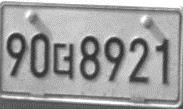0: (29, 32, 50, 78)
1: (155, 38, 170, 85)
2: (128, 37, 150, 84)
8: (78, 34, 101, 80)
9: (102, 35, 126, 83), (5, 31, 28, 77)
더: (52, 41, 74, 80)
